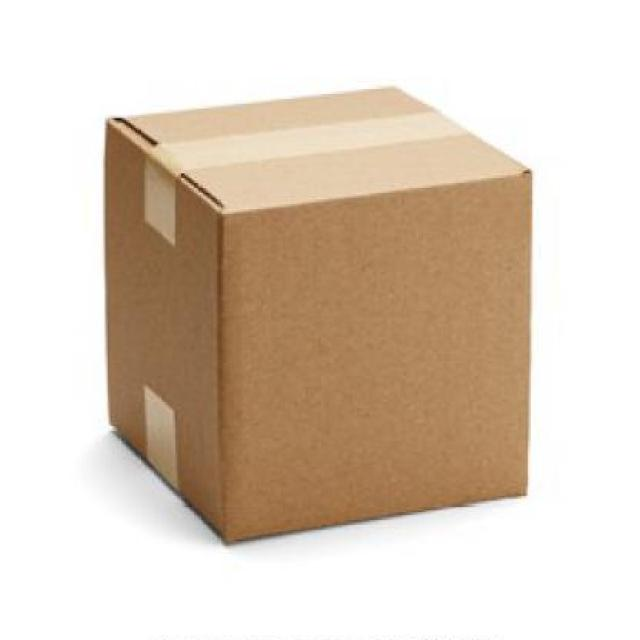box: (100, 91, 542, 551)
